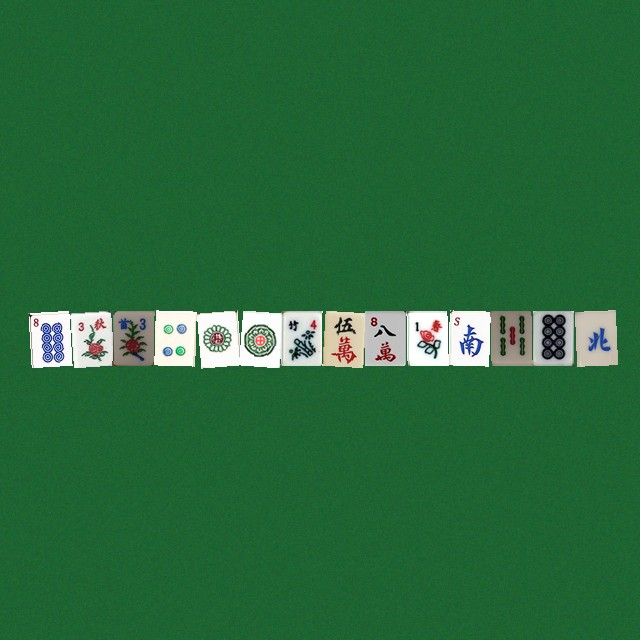tile: (28, 310, 69, 365), (70, 310, 111, 365), (112, 310, 153, 365), (154, 310, 195, 365), (196, 310, 237, 365), (238, 310, 279, 365), (280, 310, 321, 365), (322, 310, 363, 365), (364, 310, 405, 365), (406, 310, 447, 365), (448, 310, 489, 365), (490, 310, 531, 365), (532, 310, 573, 365), (574, 310, 615, 365)
